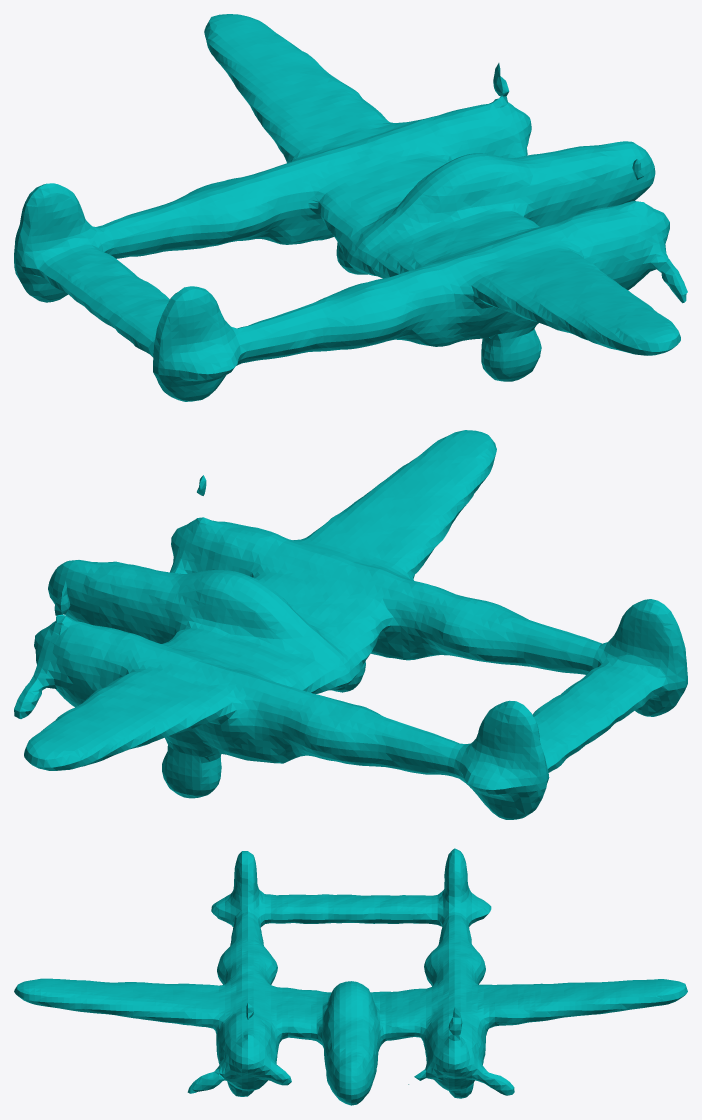
3 views of the same model, one above another, from view 1: azimuth 30°, elevation 25°; view 2: azimuth 150°, elevation 25°; view 3: azimuth 270°, elevation 25° (orthographic). The views are drawn at different scales.
Bounding box in the file's own units: 0.7424 × 0.2338 × 1.02.
